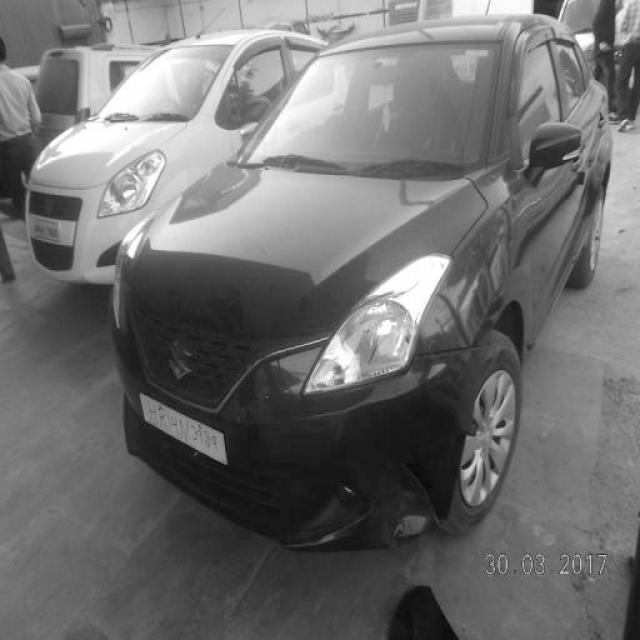car damage: (374, 450, 443, 543)
